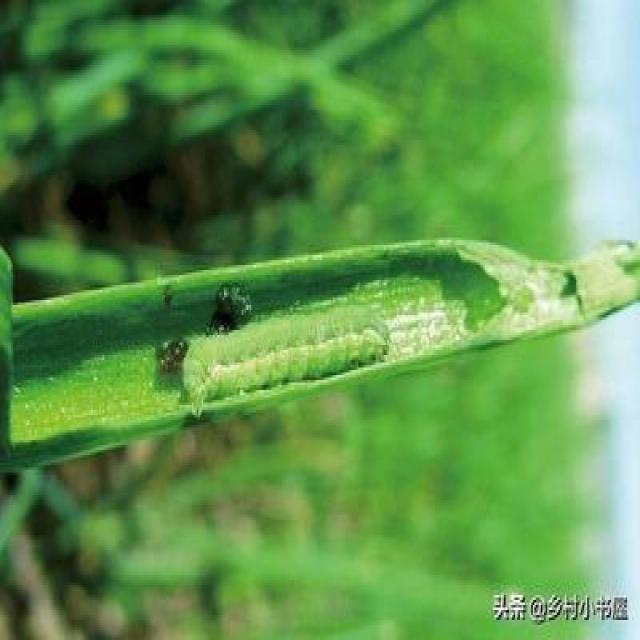BeetArmyWorm-Larva-: (175, 304, 398, 412)
